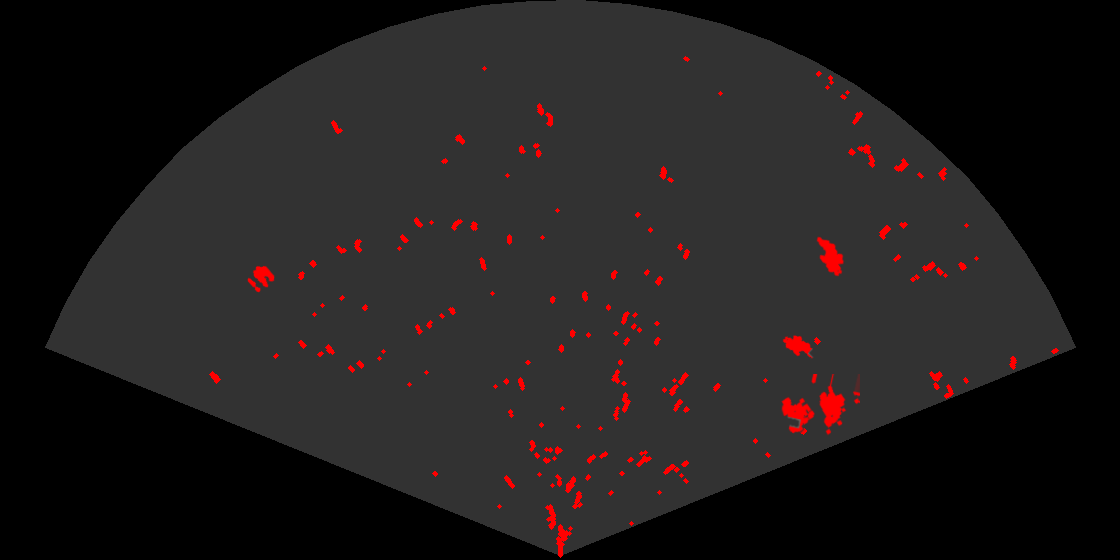AUV: (815, 235, 846, 278), (781, 334, 814, 360)
ball: (246, 264, 276, 294)
cage: (780, 374, 860, 437)
